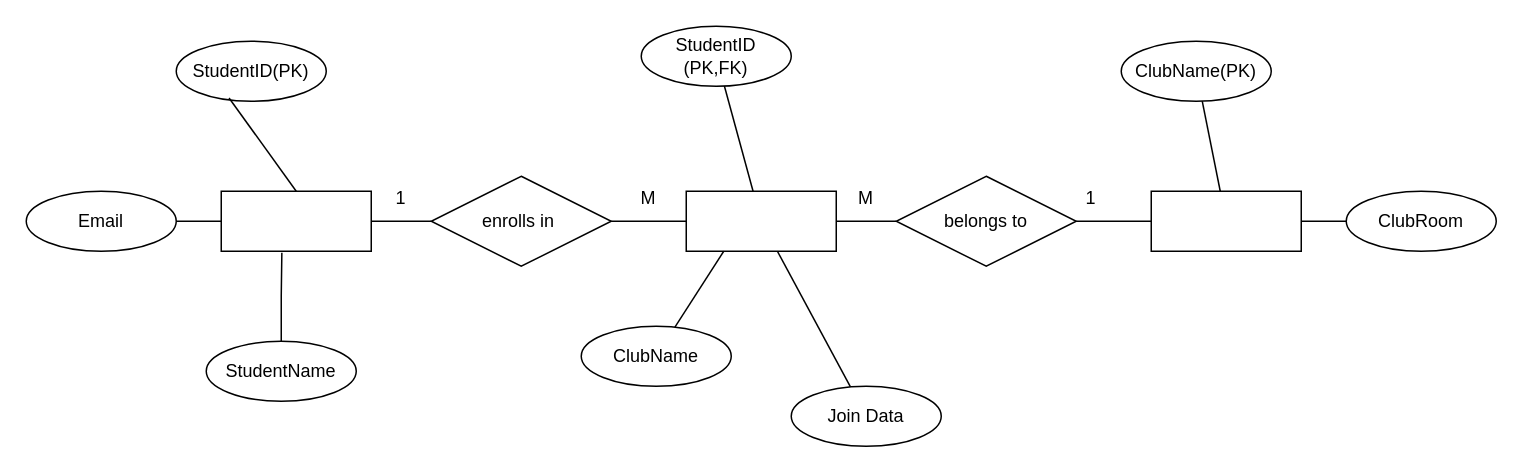
Image size: 1523x473. Some labels were removed from this diagram. Each missing label, with the centre of its shape:
"Club" goes at [1225,220].
"Membership" goes at [760,220].
"Student" goes at [295,220].
